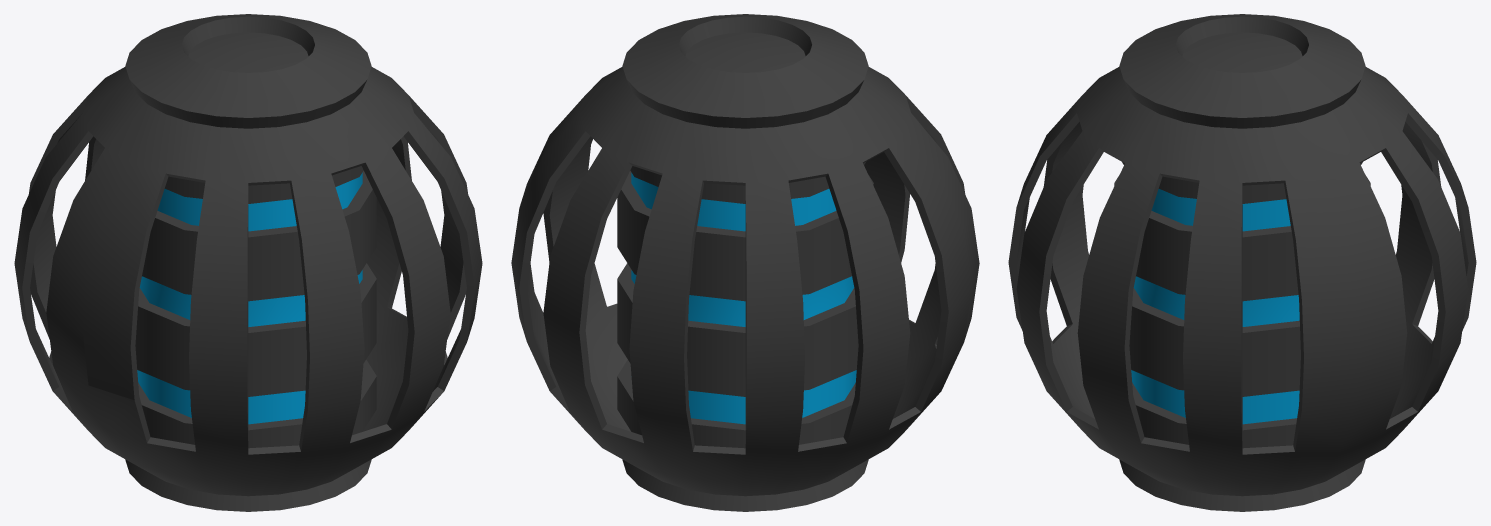
The model's file is Grenade_Mesh.fbx.
3 renders of one model, left to right at view 1: azimuth 30°, elevation 25°; view 2: azimuth 150°, elevation 25°; view 3: azimuth 270°, elevation 25°, orthographic.
Visible parts, largest first — view 1: GrenadeMesh; view 2: GrenadeMesh; view 3: GrenadeMesh.
Boxes of the visible parts, x1,y1,x2,y2 form: GrenadeMesh: [14, 14, 482, 511]; GrenadeMesh: [511, 14, 979, 511]; GrenadeMesh: [1008, 14, 1476, 511].
Bounding box in the file's own units: 5.94 × 6.11 × 5.94.
